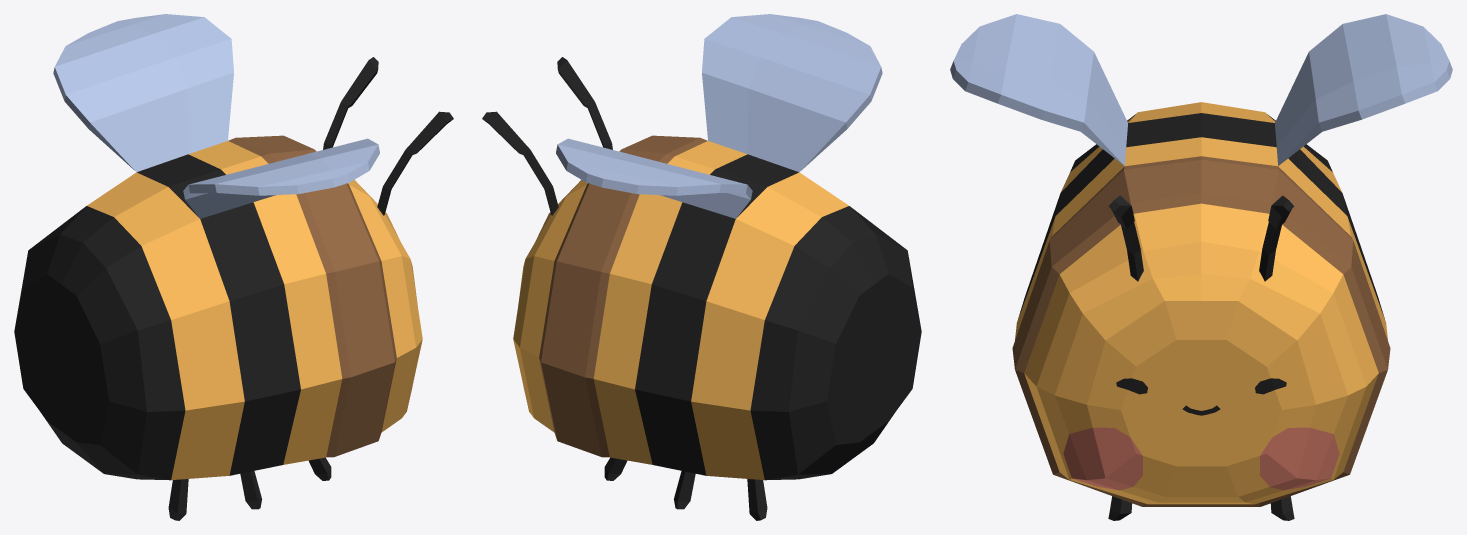
The model's file is Bee1.fbx.
The picture shows the model from 3 angles, left to right: view 1: azimuth 30°, elevation 25°; view 2: azimuth 150°, elevation 25°; view 3: azimuth 270°, elevation 25°; orthographic projection. The views are drawn at different scales.
Parts seen in each view (by area): view 1: BeeBox; view 2: BeeBox; view 3: BeeBox.
Boxes of the visible parts, left/top/right/bottom form: BeeBox: left=14, top=14, right=453, bottom=520; BeeBox: left=482, top=14, right=921, bottom=520; BeeBox: left=950, top=14, right=1452, bottom=520.
Bounding box in the file's own units: 137 × 137 × 146.
